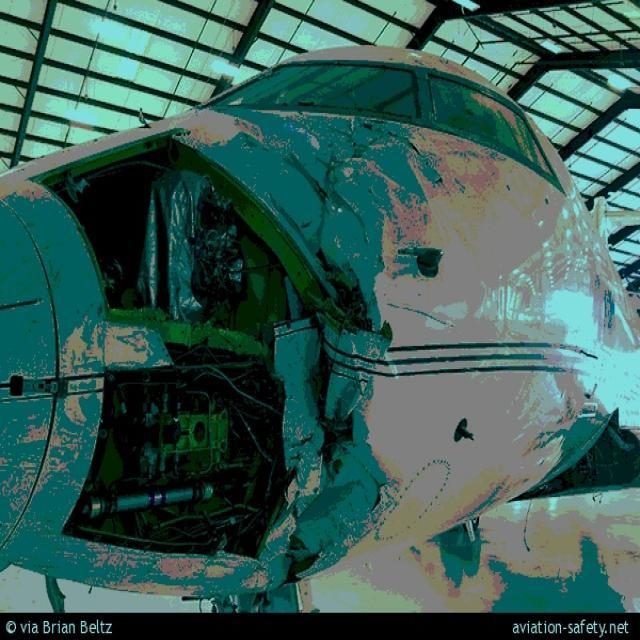crack: (364, 457, 391, 513)
